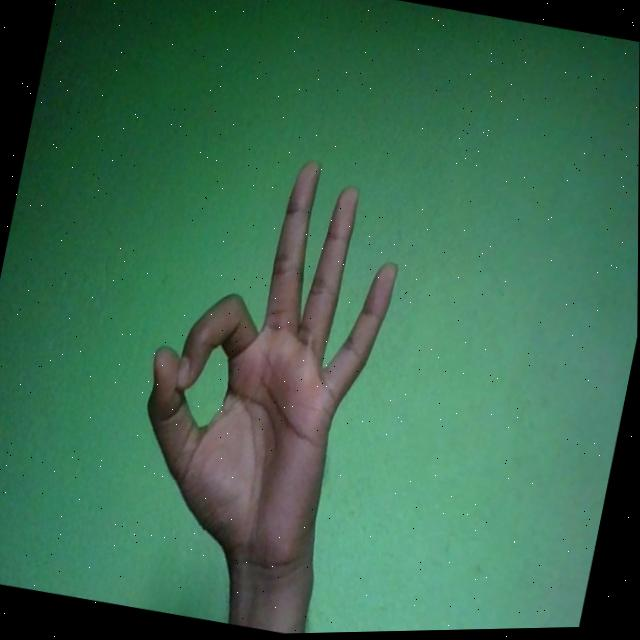Ok: (115, 136, 419, 596)
